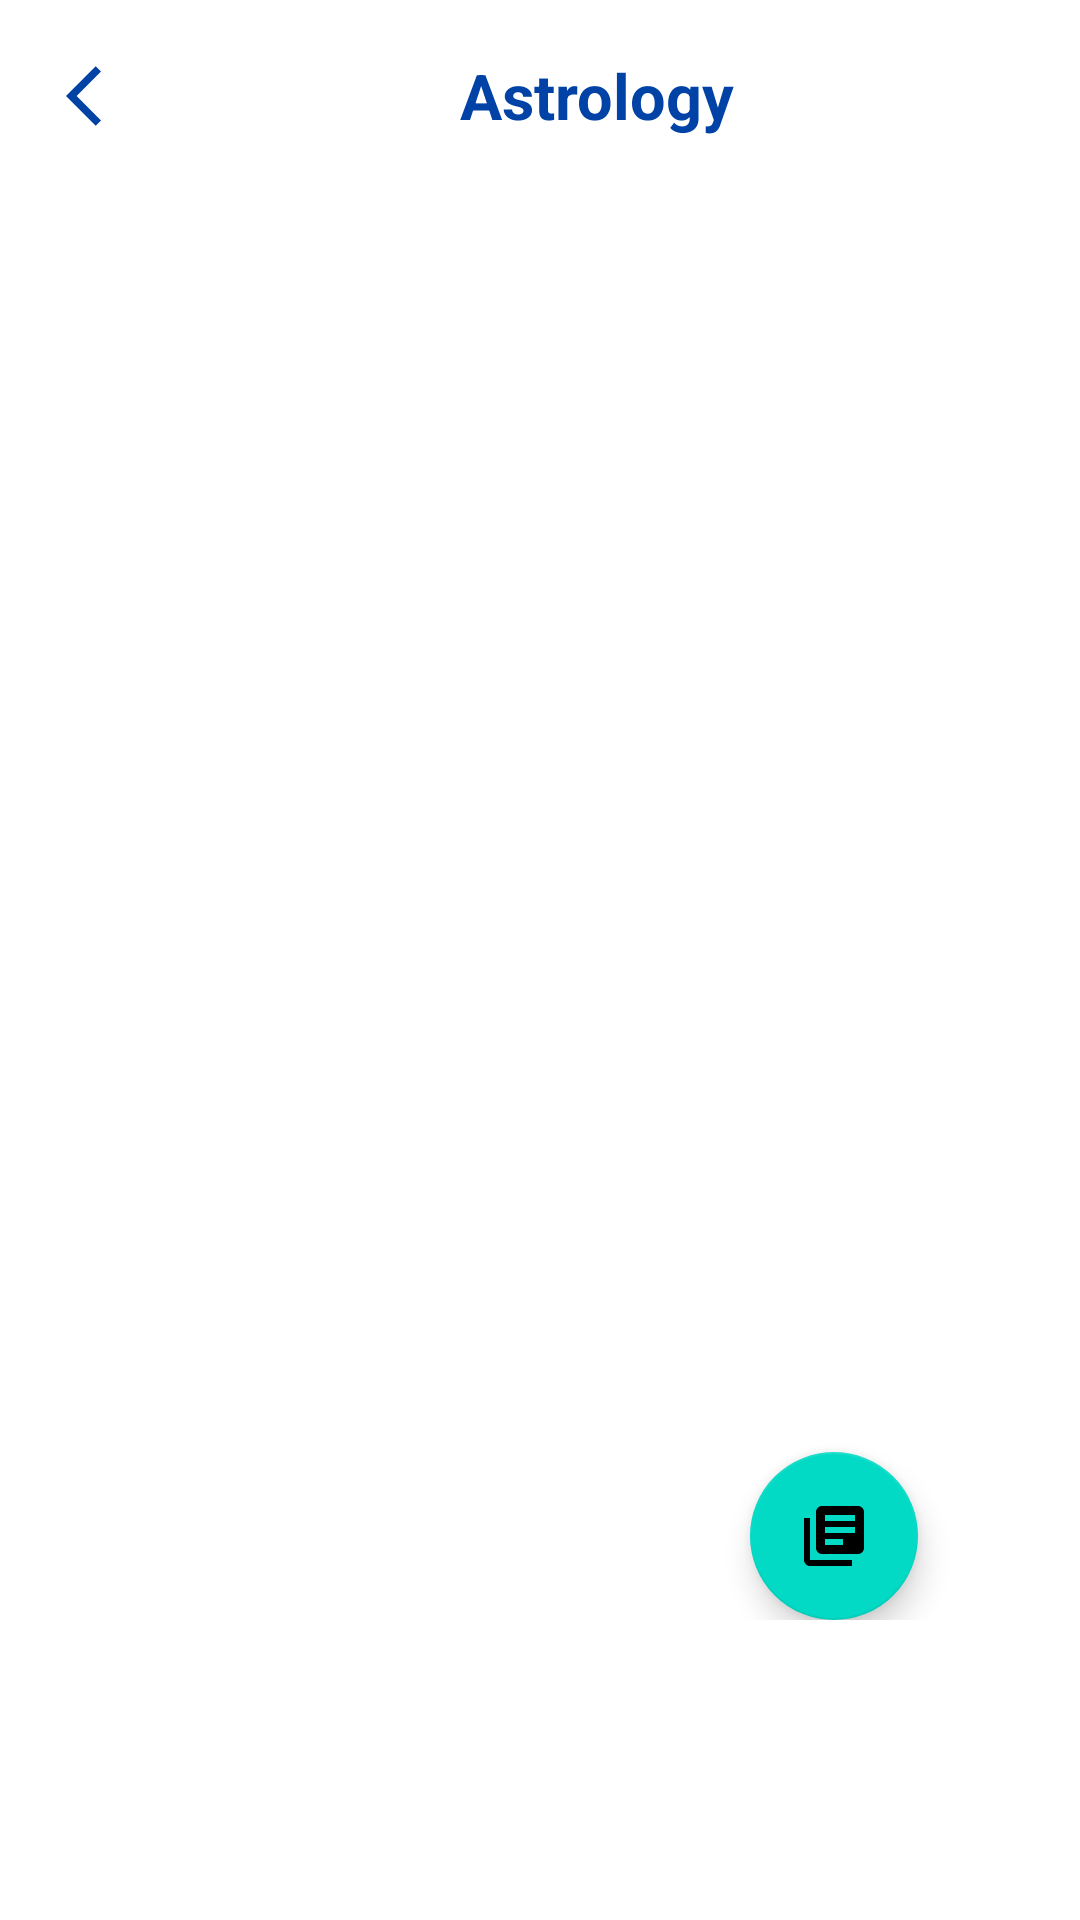

Point at icon controls on the screen. Image size 1080px x 1920px, points as [x,y].
back: [83,96]
library books: [834,1536]
